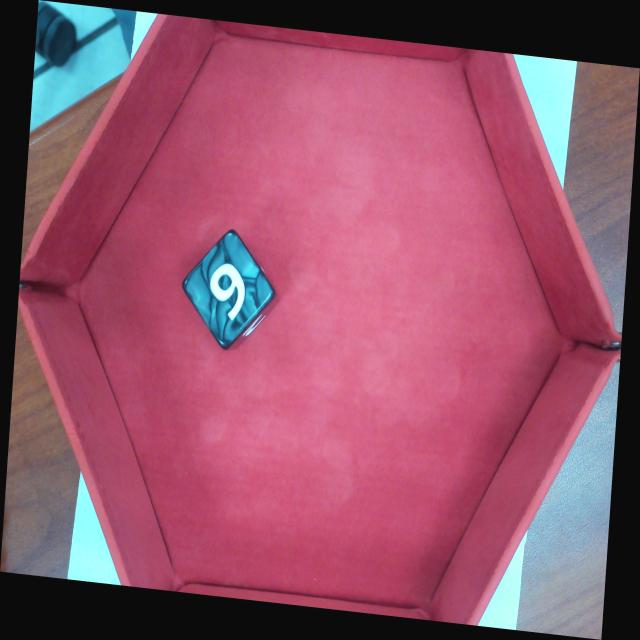dice: (179, 227, 277, 354)
